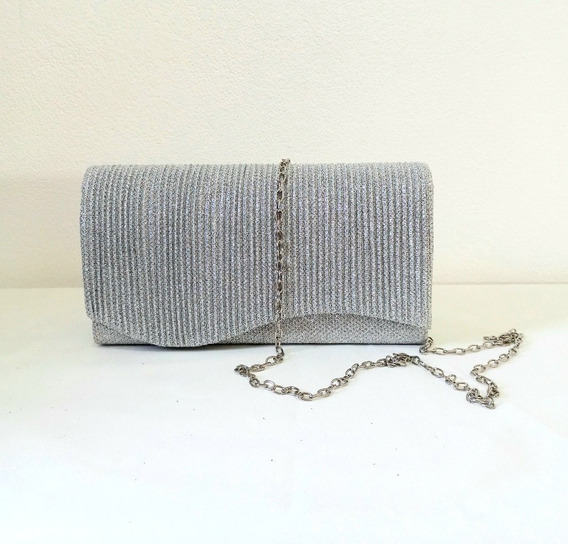cartera: (79, 160, 439, 351)
